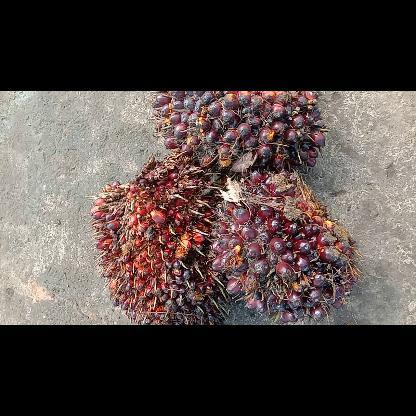Kurang masak: (211, 166, 361, 324), (150, 90, 330, 178)
TBS masak: (92, 156, 230, 324)
